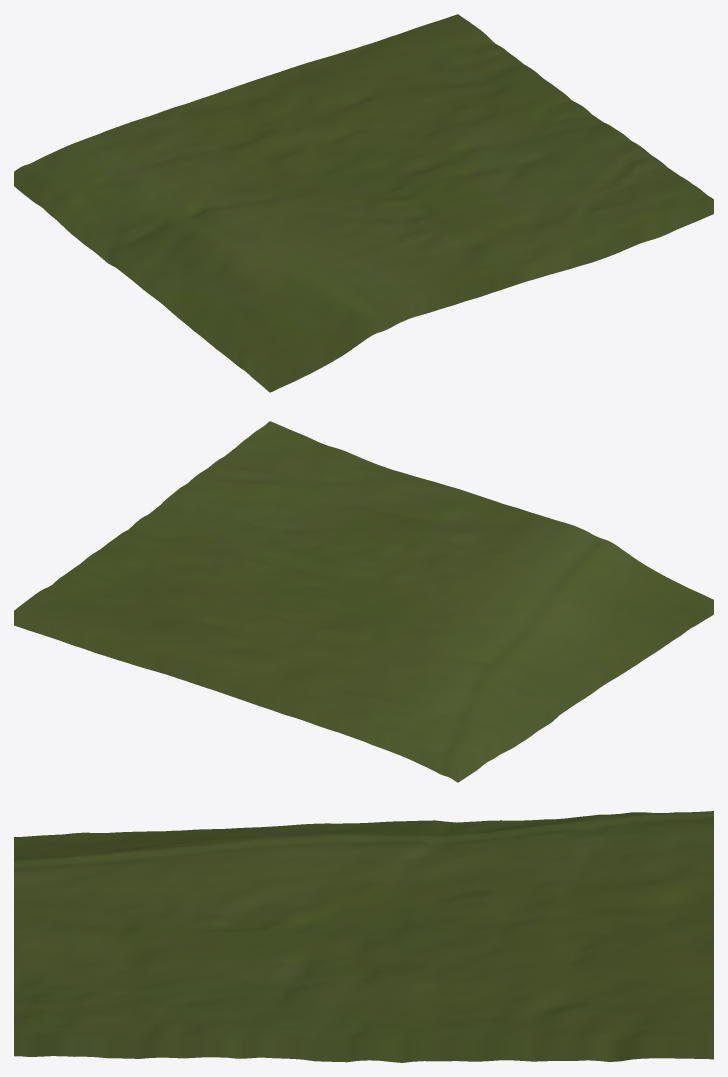
The model's file is terrain_0_1.glb.
The picture shows the model from 3 angles, top to bottom: view 1: azimuth 30°, elevation 25°; view 2: azimuth 150°, elevation 25°; view 3: azimuth 270°, elevation 25°; orthographic projection. The views are drawn at different scales.
Parts seen in each view (by area): view 1: terrain_0_1; view 2: terrain_0_1; view 3: terrain_0_1.
Part boxes in pixels (x1,y1,x2,y2): terrain_0_1: [14, 14, 713, 392]; terrain_0_1: [14, 421, 713, 782]; terrain_0_1: [14, 811, 713, 1062].
Bounding box in the file's own units: 256 × 46.98 × 256.
